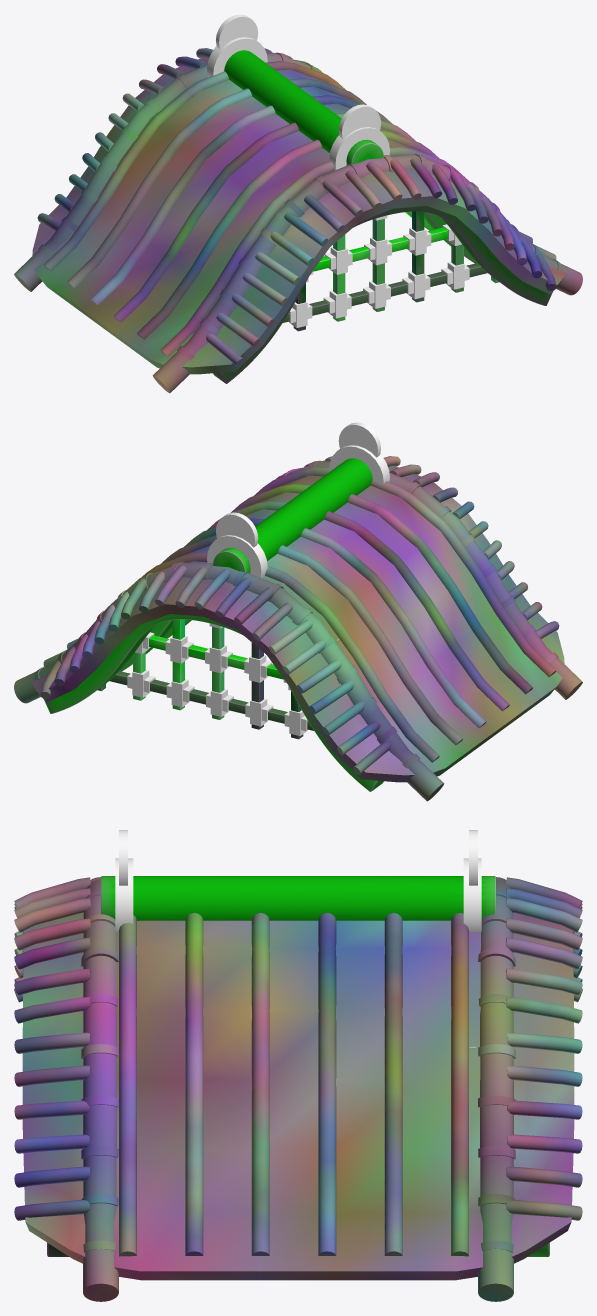
Rendered from roof_arch_4b_01.fbx.
3 views of the same model, one above another, from view 1: azimuth 30°, elevation 25°; view 2: azimuth 150°, elevation 25°; view 3: azimuth 270°, elevation 25° (orthographic). The views are drawn at different scales.
Parts seen in each view (by area): view 1: roof_arch_4b_01; view 2: roof_arch_4b_01; view 3: roof_arch_4b_01.
Part boxes in pixels (<box>): roof_arch_4b_01: <box>14,14,582,393</box>; roof_arch_4b_01: <box>14,422,582,801</box>; roof_arch_4b_01: <box>14,830,582,1301</box>.
Bounding box in the file's own units: 3.89 × 2.03 × 3.17.
